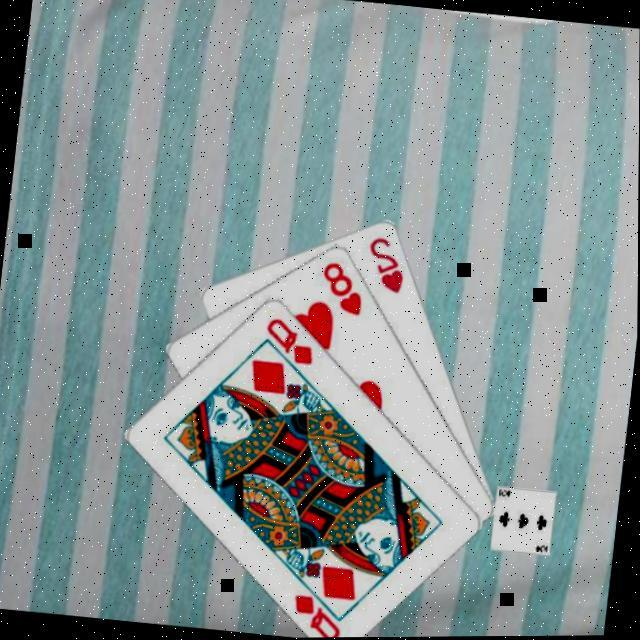2H: (364, 234, 412, 298)
8H: (317, 258, 371, 319)
QD: (261, 314, 322, 369), (290, 591, 350, 638)
